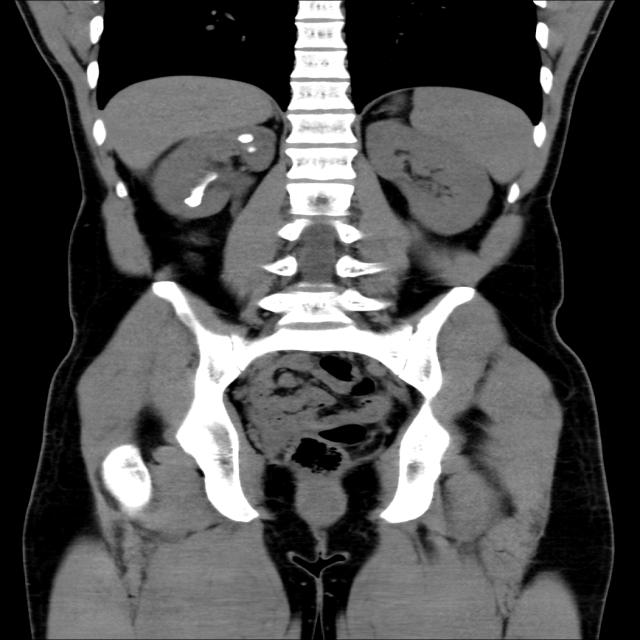kidneystone: (185, 178, 211, 208), (237, 134, 254, 143)
